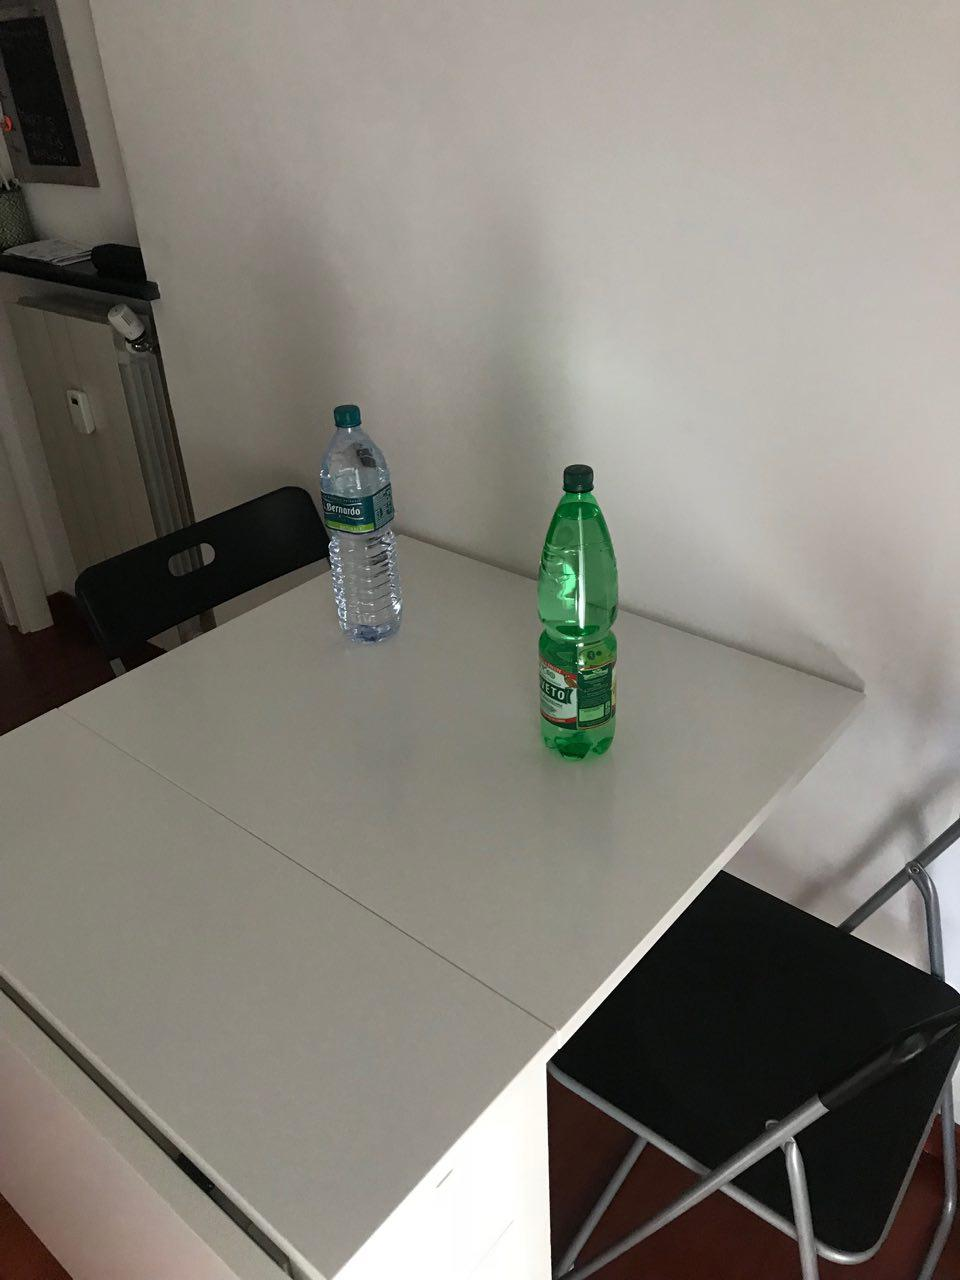san_bernardo: (319, 404, 406, 646)
